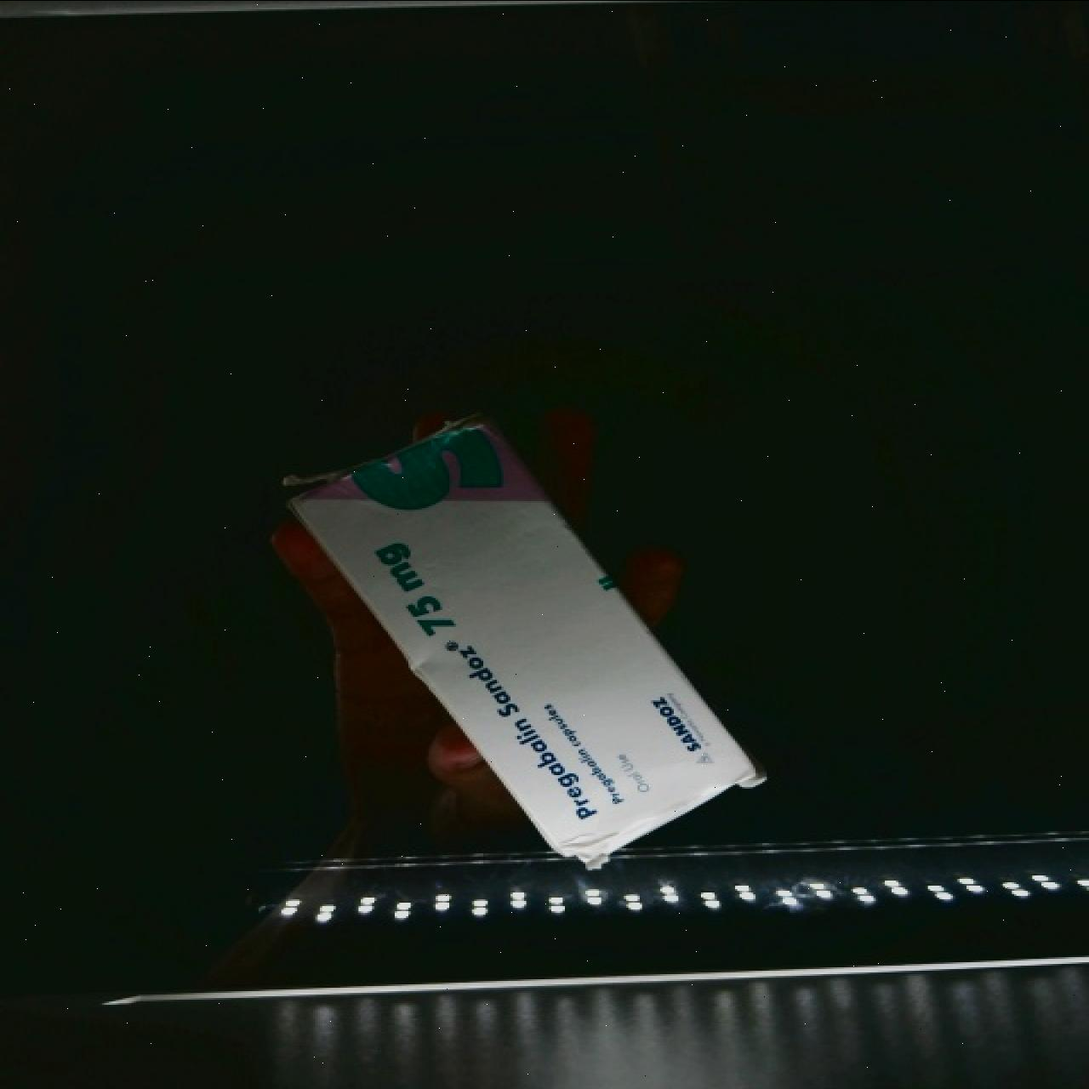medicine_label_obb: (411, 600, 625, 864)
